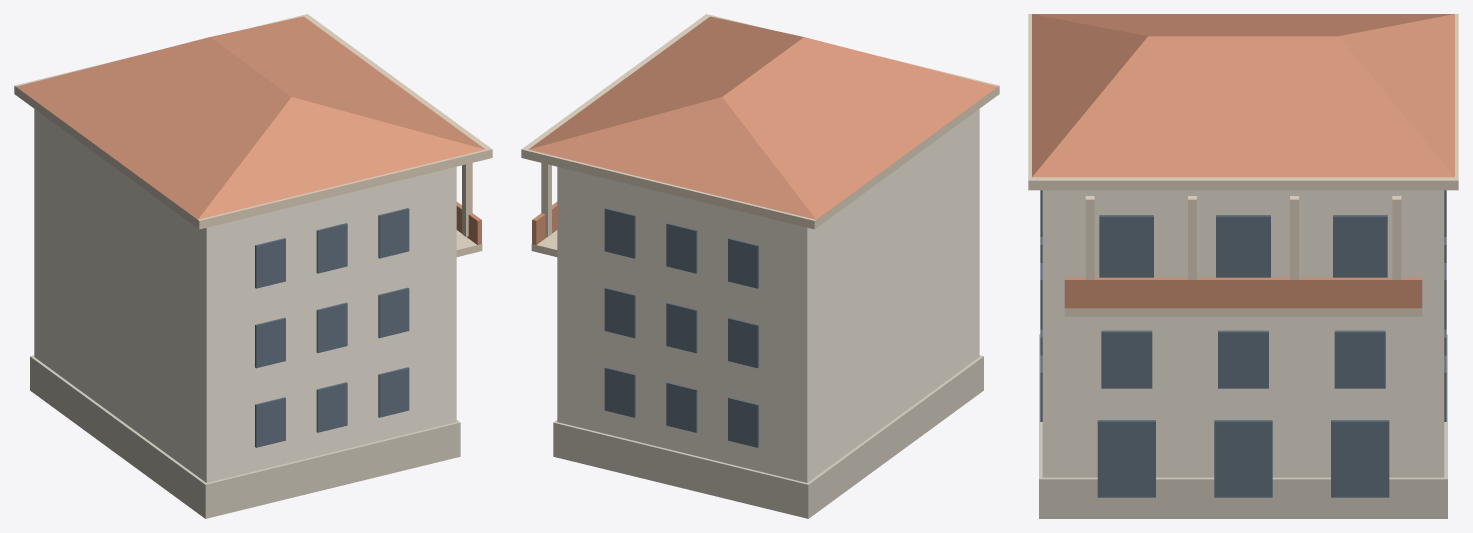
Rendered from rambla_building_3.glb.
3 renders of one model, left to right at view 1: azimuth 30°, elevation 25°; view 2: azimuth 150°, elevation 25°; view 3: azimuth 270°, elevation 25°, orthographic. The views are drawn at different scales.
Parts seen in each view (by area): view 1: RamblaBuilding_3; view 2: RamblaBuilding_3; view 3: RamblaBuilding_3.
Part boxes in pixels (x1,y1,x2,y2): RamblaBuilding_3: [14, 14, 492, 518]; RamblaBuilding_3: [521, 14, 999, 518]; RamblaBuilding_3: [1028, 14, 1458, 518].
Size of the model in its own units: 11 by 12.5 by 11.8.
